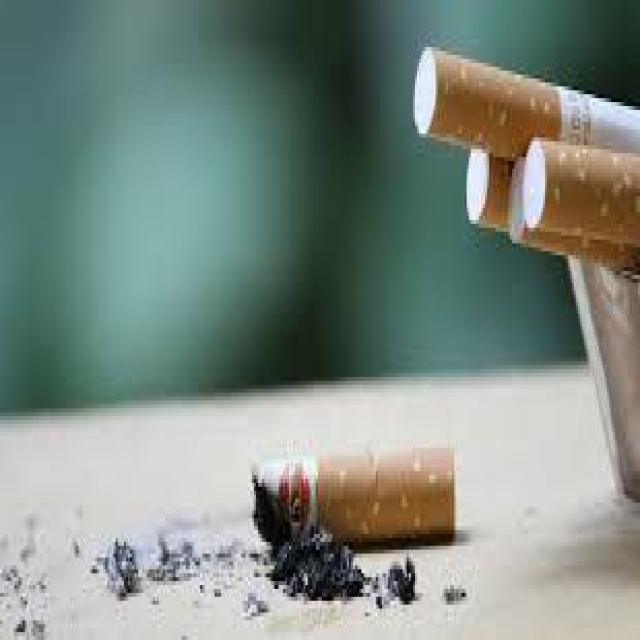cigarette: (413, 47, 638, 161), (254, 444, 458, 554), (510, 161, 638, 271), (524, 137, 638, 254), (467, 153, 510, 232)
